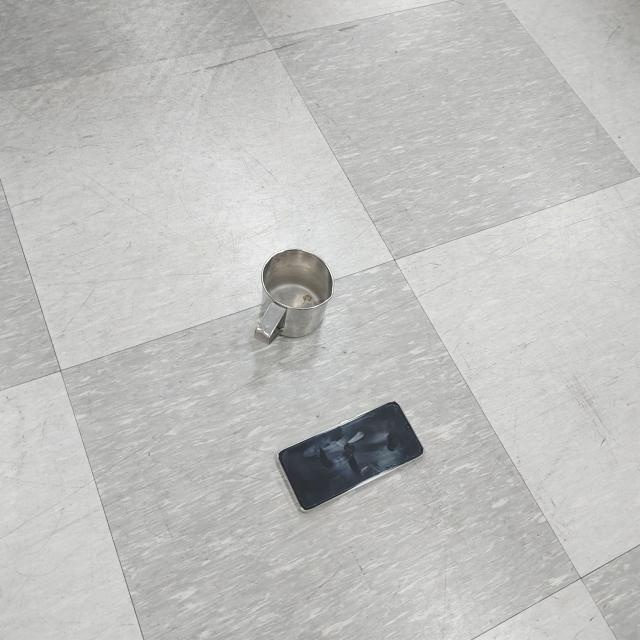cup: (255, 246, 333, 349)
phone: (277, 402, 426, 516)
